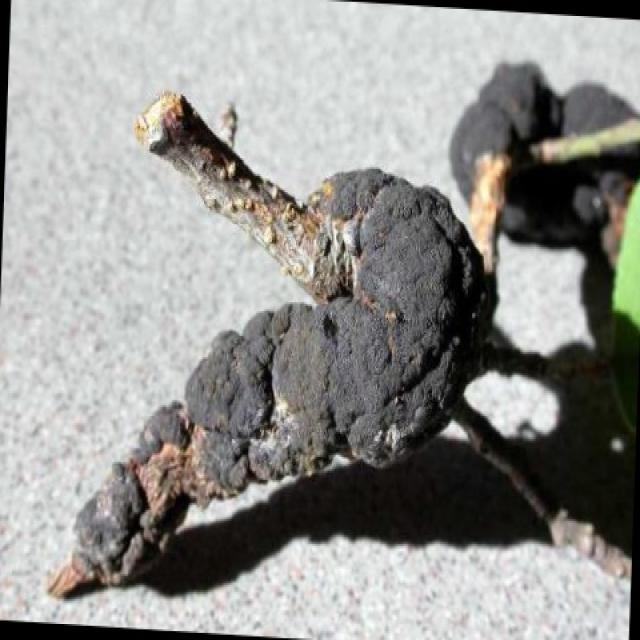Black_knot: (45, 87, 491, 597)
